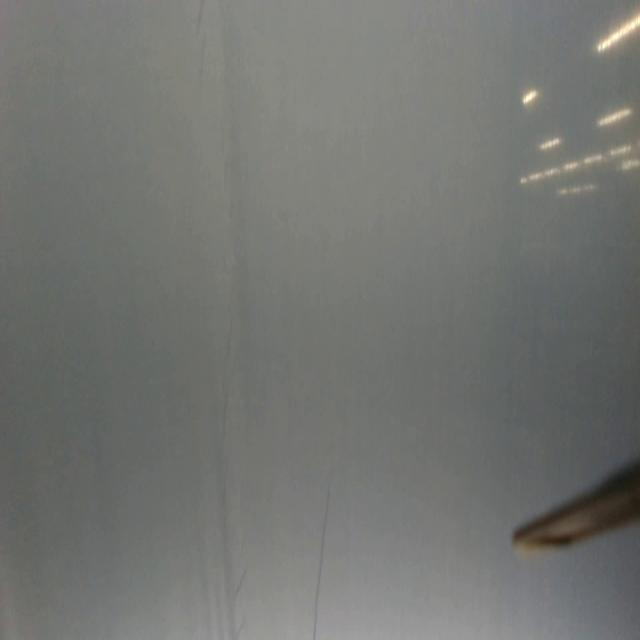crease: (311, 476, 332, 634)
